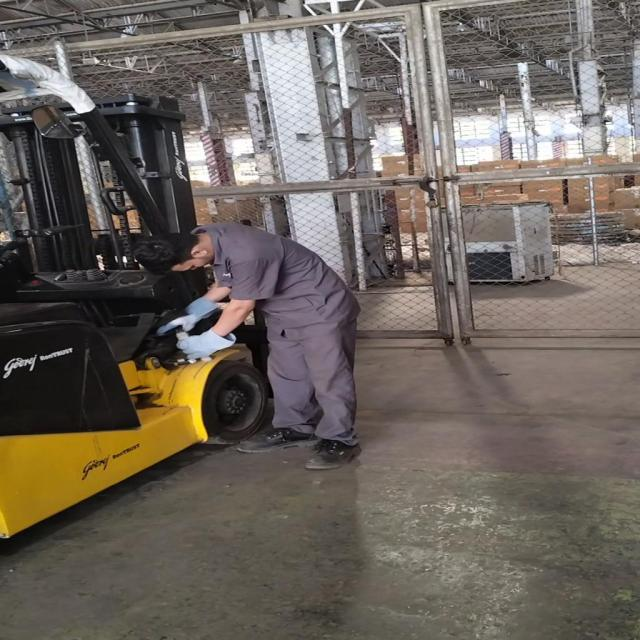Gloves-Detection: (159, 296, 214, 335), (165, 338, 242, 359)
